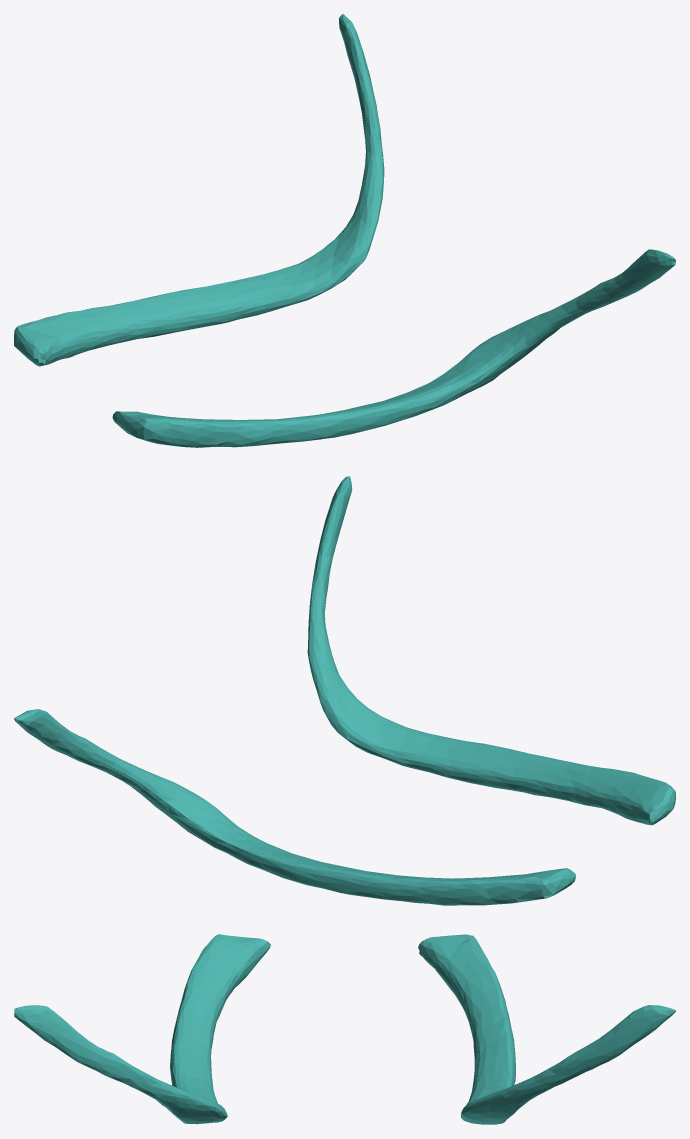
3 views of the same model, one above another, from view 1: azimuth 30°, elevation 25°; view 2: azimuth 150°, elevation 25°; view 3: azimuth 270°, elevation 25° (orthographic).
Visible parts, largest first — view 1: 965.obj; view 2: 965.obj; view 3: 965.obj.
Boxes of the visible parts, x1,y1,x2,y2 form: 965.obj: (14, 14, 675, 447); 965.obj: (14, 476, 675, 905); 965.obj: (14, 934, 675, 1124).
Bounding box in the file's own units: 4052 × 1629 × 5318.
